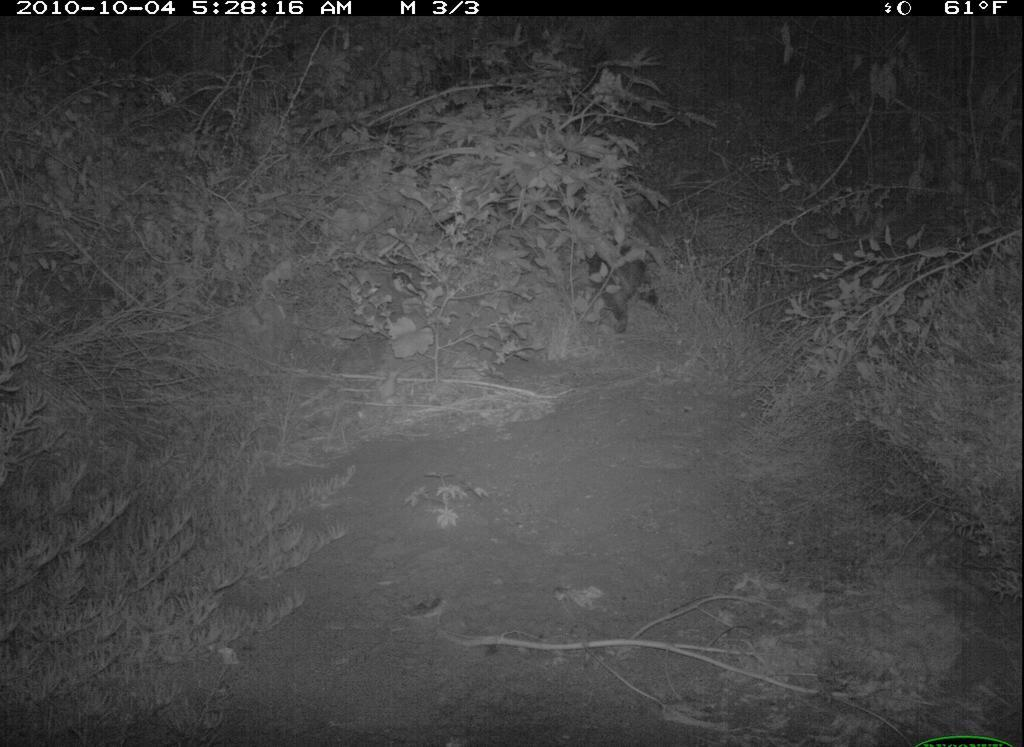raccoon: (582, 245, 664, 336)
